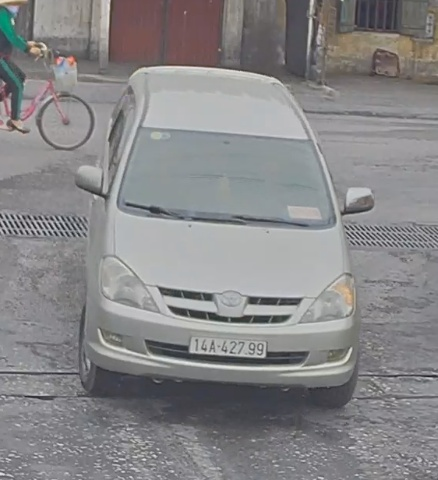vehicle plate: (185, 332, 276, 362)
